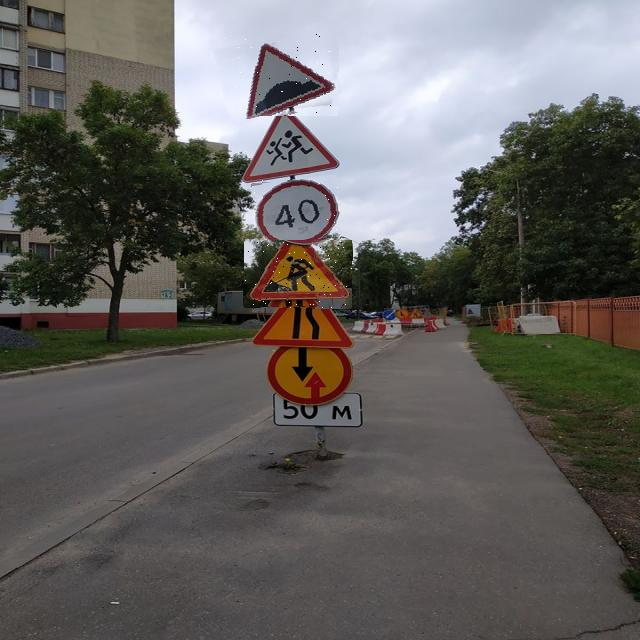hump: (217, 28, 339, 116)
roadwork: (244, 240, 352, 309)
speed limit 40: (252, 177, 340, 251)
